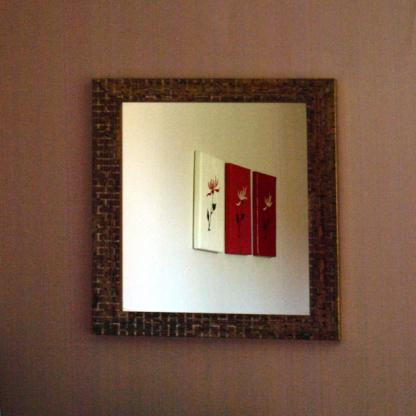Picture-frame: (91, 71, 345, 346)
